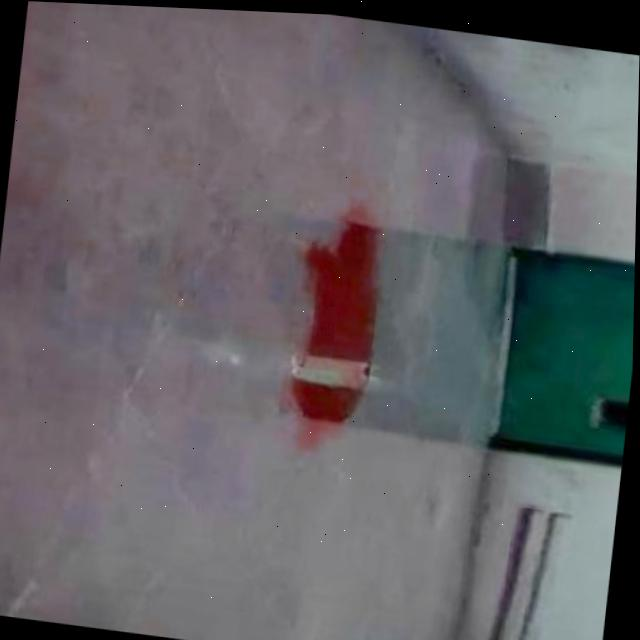spillage: (288, 219, 376, 419)
